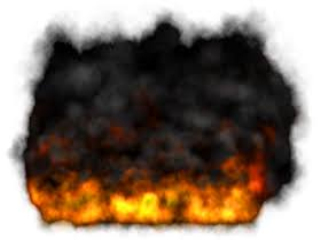fire: (26, 170, 270, 224)
smoke: (16, 26, 300, 165)
